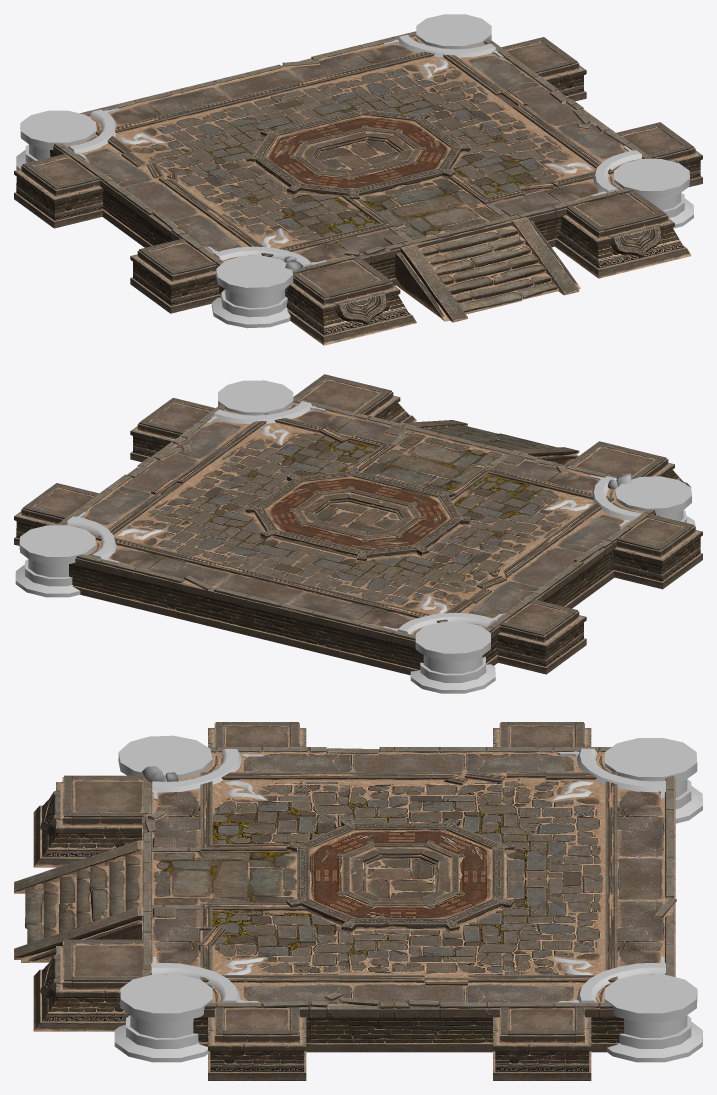
Rendered from build1.FBX.
The picture shows the model from 3 angles, top to bottom: view 1: azimuth 30°, elevation 25°; view 2: azimuth 150°, elevation 25°; view 3: azimuth 270°, elevation 25°; orthographic projection. The views are drawn at different scales.
Parts seen in each view (by area): view 1: sxdc_building_big002_002, sxdc_building_big002_001, sxdc_building_big002_003; view 2: sxdc_building_big002_001, sxdc_building_big002_002, sxdc_building_big002_003; view 3: sxdc_building_big002_001, sxdc_building_big002_002, sxdc_building_big002_003.
Part boxes in pixels (x1,y1,x2,y2): sxdc_building_big002_002: (14, 37, 702, 345); sxdc_building_big002_001: (25, 31, 690, 317); sxdc_building_big002_003: (16, 14, 693, 328); sxdc_building_big002_001: (26, 375, 691, 675); sxdc_building_big002_002: (14, 374, 702, 674); sxdc_building_big002_003: (15, 380, 696, 693); sxdc_building_big002_001: (31, 722, 676, 1052); sxdc_building_big002_002: (14, 722, 605, 1080); sxdc_building_big002_003: (114, 735, 702, 1062).
Size of the model in its own units: 3193 by 257 by 2922.
